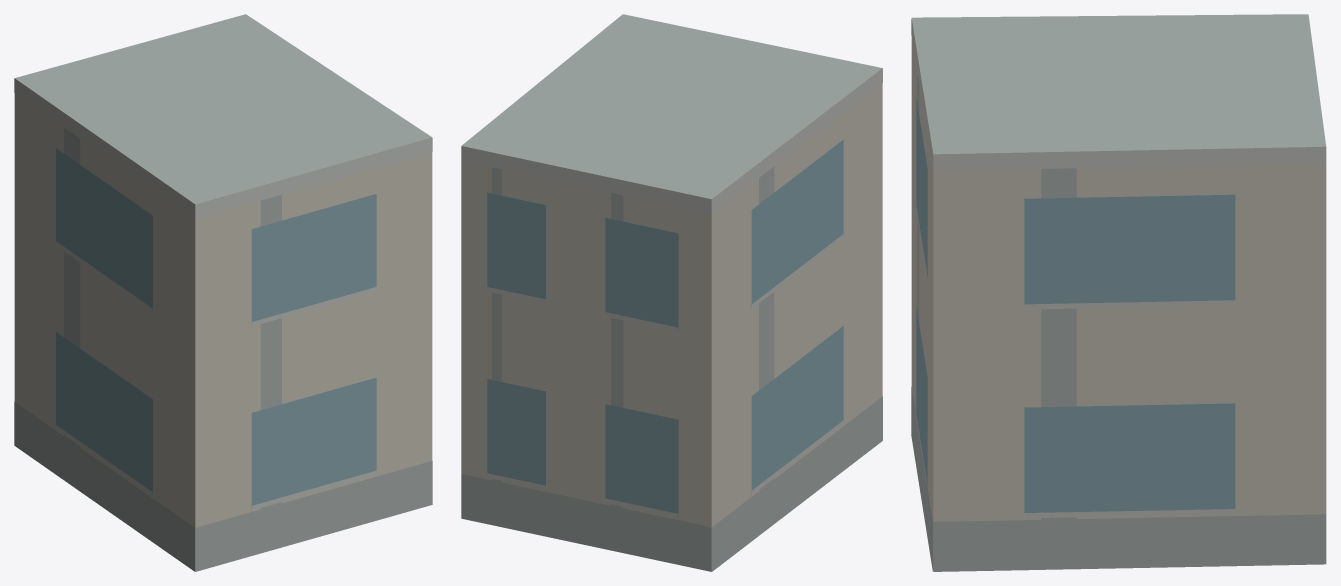
File: survey-upis-32957129.glb
The picture shows the model from 3 angles, left to right: view 1: azimuth 30°, elevation 25°; view 2: azimuth 150°, elevation 25°; view 3: azimuth 270°, elevation 25°; orthographic projection. The views are drawn at different scales.
Parts seen in each view (by area): view 1: survey-upis-32957129.tmp; view 2: survey-upis-32957129.tmp; view 3: survey-upis-32957129.tmp.
Boxes of the visible parts, left/top/right/bottom form: survey-upis-32957129.tmp: left=14, top=14, right=432, bottom=571; survey-upis-32957129.tmp: left=461, top=14, right=882, bottom=571; survey-upis-32957129.tmp: left=911, top=14, right=1326, bottom=571.
Size of the model in its own units: 4.4 by 6.1 by 5.5.
